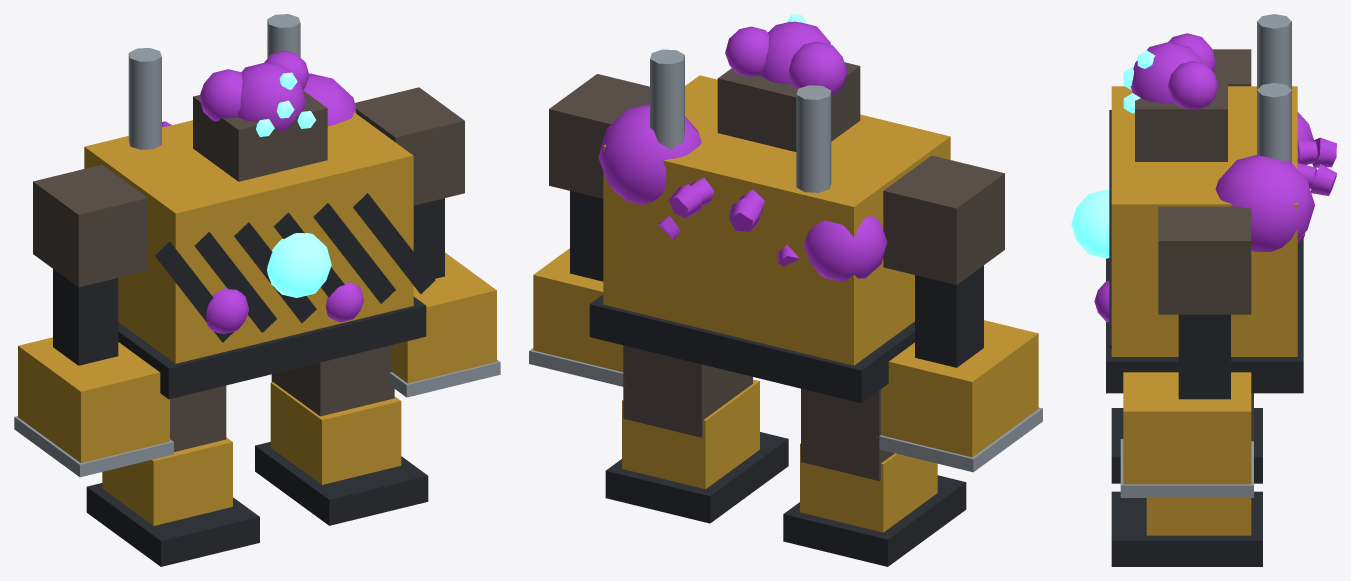
File: boss_titan.glb
3 renders of one model, left to right at view 1: azimuth 30°, elevation 25°; view 2: azimuth 150°, elevation 25°; view 3: azimuth 270°, elevation 25°, orthographic. The views are drawn at different scales.
Parts seen in each view (by area): view 1: torso, armR, legL, armL, legR, head, core; view 2: torso, armR, legL, legR, armL, head, tentacle1, tentacle2; view 3: torso, armL, head, legL, core, legR, armR, tentacle2, tentacle1.
Boxes of the visible parts, x1,y1,x2,y2 form: torso: [84, 14, 435, 399]; armR: [14, 164, 173, 477]; legL: [255, 345, 428, 525]; armL: [355, 87, 500, 397]; legR: [86, 385, 259, 566]; head: [193, 51, 327, 181]; core: [267, 233, 331, 297]; torso: [589, 49, 950, 403]; armR: [876, 155, 1042, 472]; legL: [605, 345, 788, 523]; legR: [783, 388, 966, 566]; armL: [529, 74, 649, 386]; head: [717, 14, 860, 151]; tentacle1: [668, 178, 714, 218]; tentacle2: [729, 189, 764, 231]; torso: [1094, 14, 1314, 393]; armL: [1120, 206, 1253, 497]; head: [1123, 33, 1227, 161]; legL: [1111, 393, 1262, 566]; core: [1071, 189, 1109, 258]; legR: [1111, 408, 1262, 483]; armR: [1212, 49, 1251, 86]; tentacle2: [1297, 137, 1336, 167]; tentacle1: [1297, 163, 1336, 195].
Bounding box in the file's own units: 4.25 × 4.32 × 2.29.
